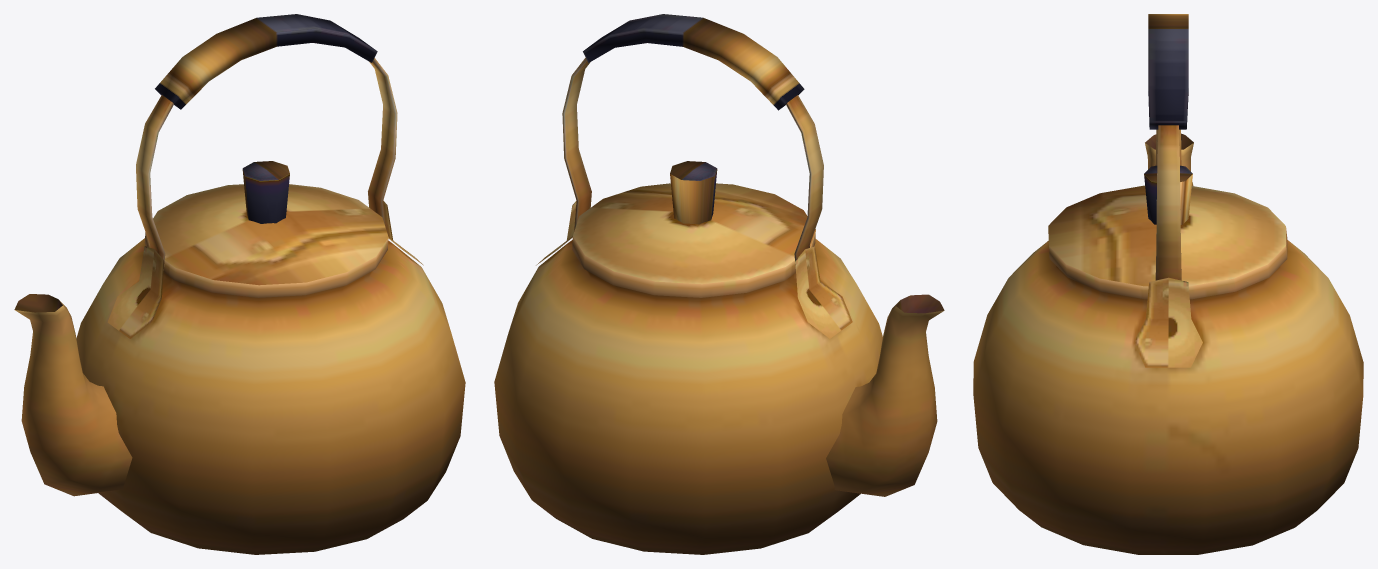
File: int_jpn_kettle.dae
The picture shows the model from 3 angles, left to right: view 1: azimuth 30°, elevation 25°; view 2: azimuth 150°, elevation 25°; view 3: azimuth 270°, elevation 25°; orthographic projection.
Visible parts, largest first — view 1: int_jpn_kettle; view 2: int_jpn_kettle; view 3: int_jpn_kettle.
Part boxes in pixels (<box>): int_jpn_kettle: <box>14,14,465,554</box>; int_jpn_kettle: <box>494,14,944,554</box>; int_jpn_kettle: <box>973,14,1363,554</box>.
Bounding box in the file's own units: 23.79 × 25.11 × 19.18.
1 material, 1 textured.
